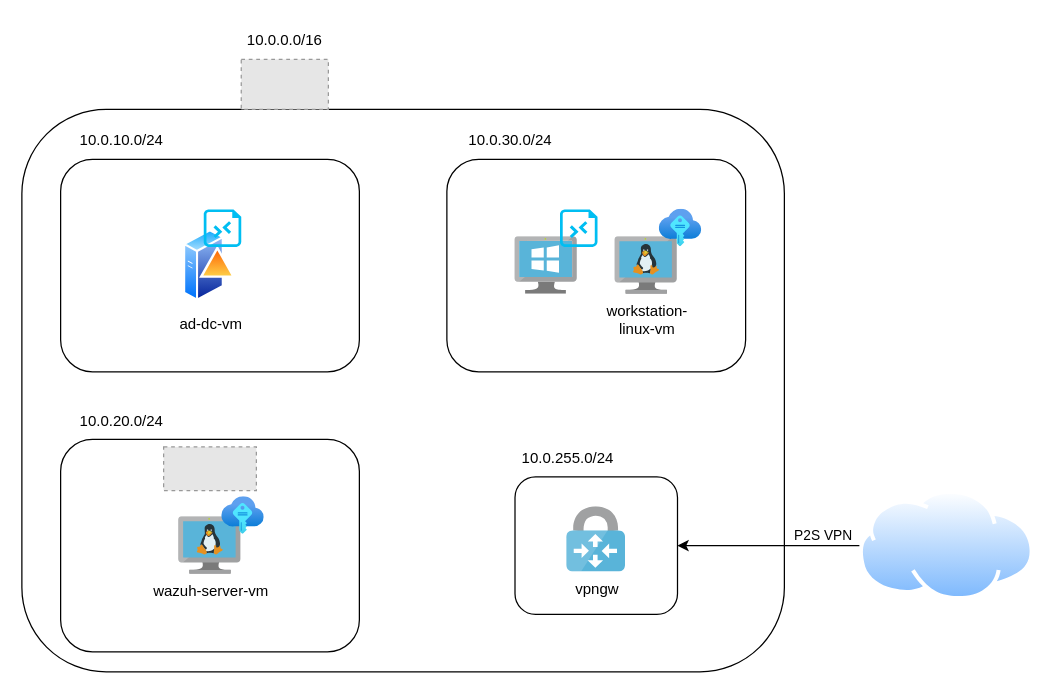
Image size: 1056x694. Some labels were removed from this diagram. Grey dashed boxes stand in for pictures. The shapes that lost their labels are listed below. From the top down, each one's centre as x and y in pixels, then its label:
(545,265): work-win-vm
(946,545): Internet
